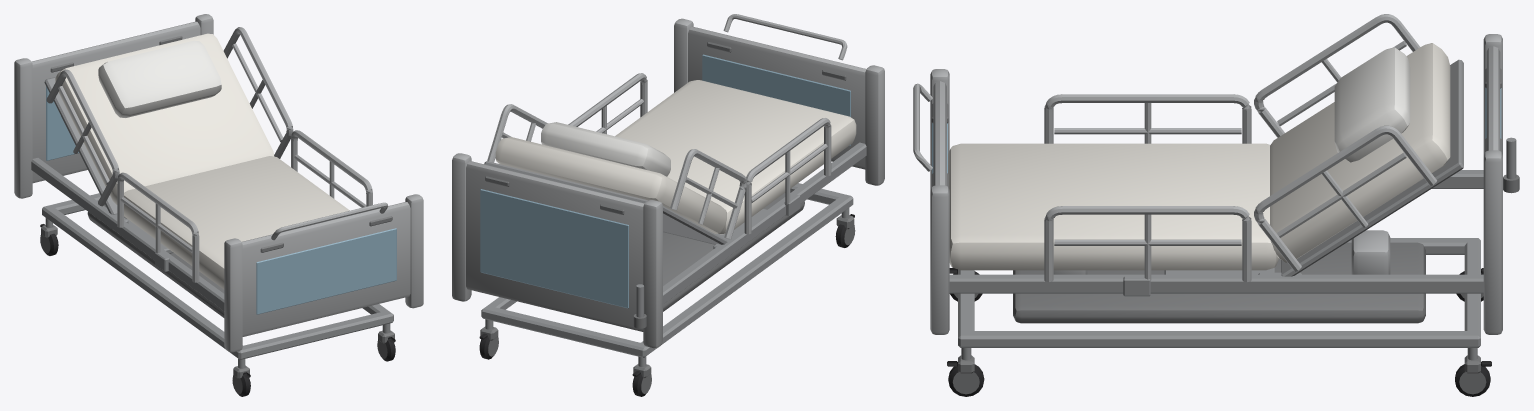
Rendered from HospitalBed.fbx.
3 views of the same model, side by side, from view 1: azimuth 30°, elevation 25°; view 2: azimuth 150°, elevation 25°; view 3: azimuth 270°, elevation 25° (orthographic). The views are drawn at different scales.
Visible parts, largest first — view 1: HospitalBed_Mesh; view 2: HospitalBed_Mesh; view 3: HospitalBed_Mesh.
Boxes of the visible parts, bbox=[...] form: HospitalBed_Mesh: bbox=[14, 14, 423, 396]; HospitalBed_Mesh: bbox=[452, 14, 884, 396]; HospitalBed_Mesh: bbox=[913, 14, 1519, 396].
Bounding box in the file's own units: 1.08 × 1.12 × 2.2.
